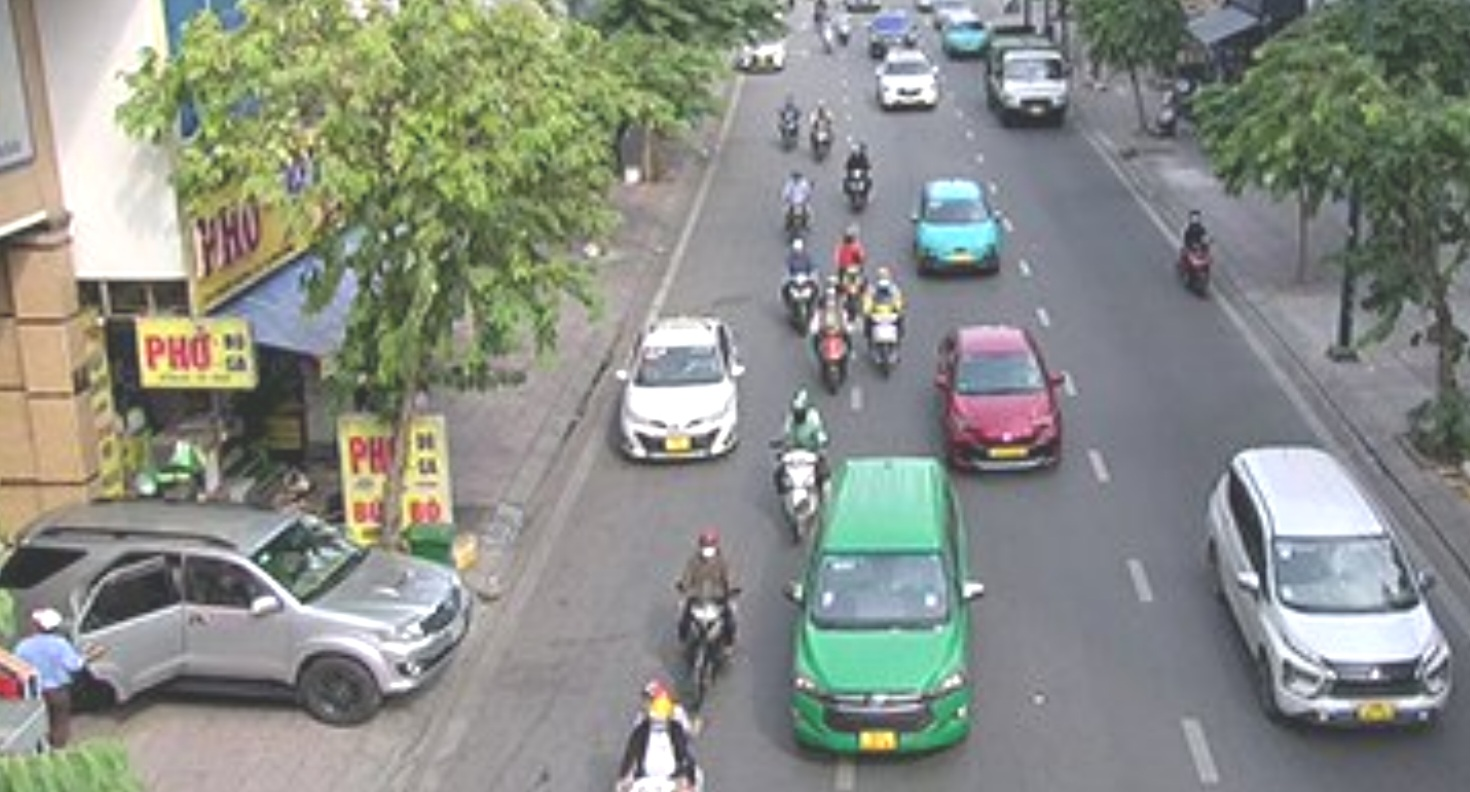car: (1206, 443, 1449, 729), (794, 449, 972, 751), (939, 329, 1063, 480), (617, 317, 741, 466), (912, 176, 1004, 276), (870, 50, 941, 112)
